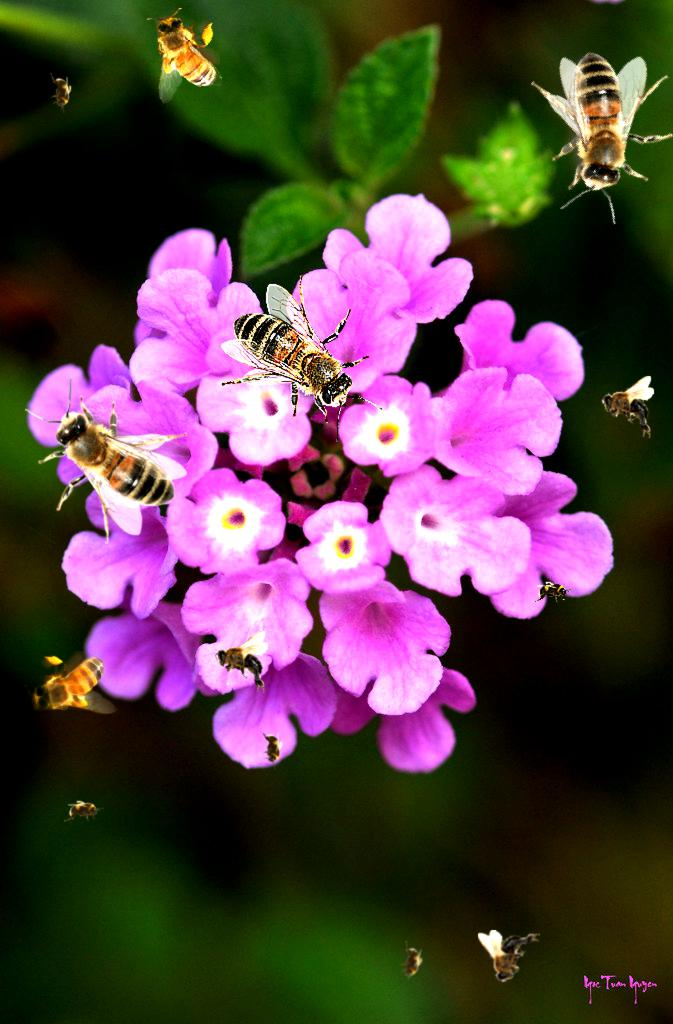Bee: (487, 13, 673, 245), (25, 377, 187, 544), (221, 275, 383, 442), (146, 4, 224, 105), (25, 651, 118, 719), (478, 930, 540, 983), (215, 631, 268, 693), (601, 376, 654, 438), (395, 940, 427, 986), (533, 581, 573, 603), (261, 729, 283, 769), (50, 73, 72, 113), (64, 800, 104, 822)
